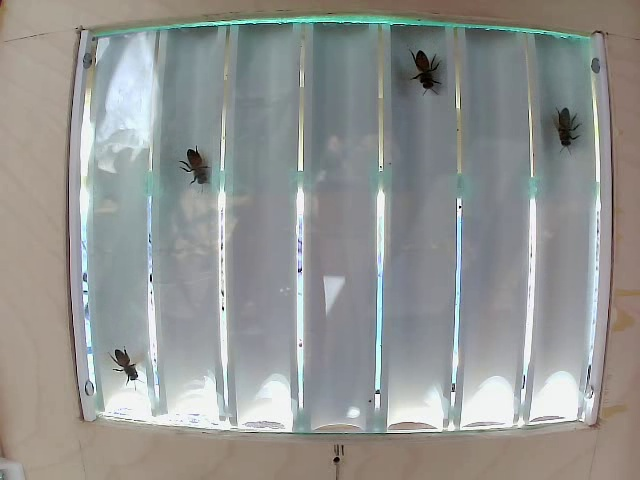bee: (180, 131, 226, 189), (551, 98, 585, 160), (411, 47, 447, 100)
